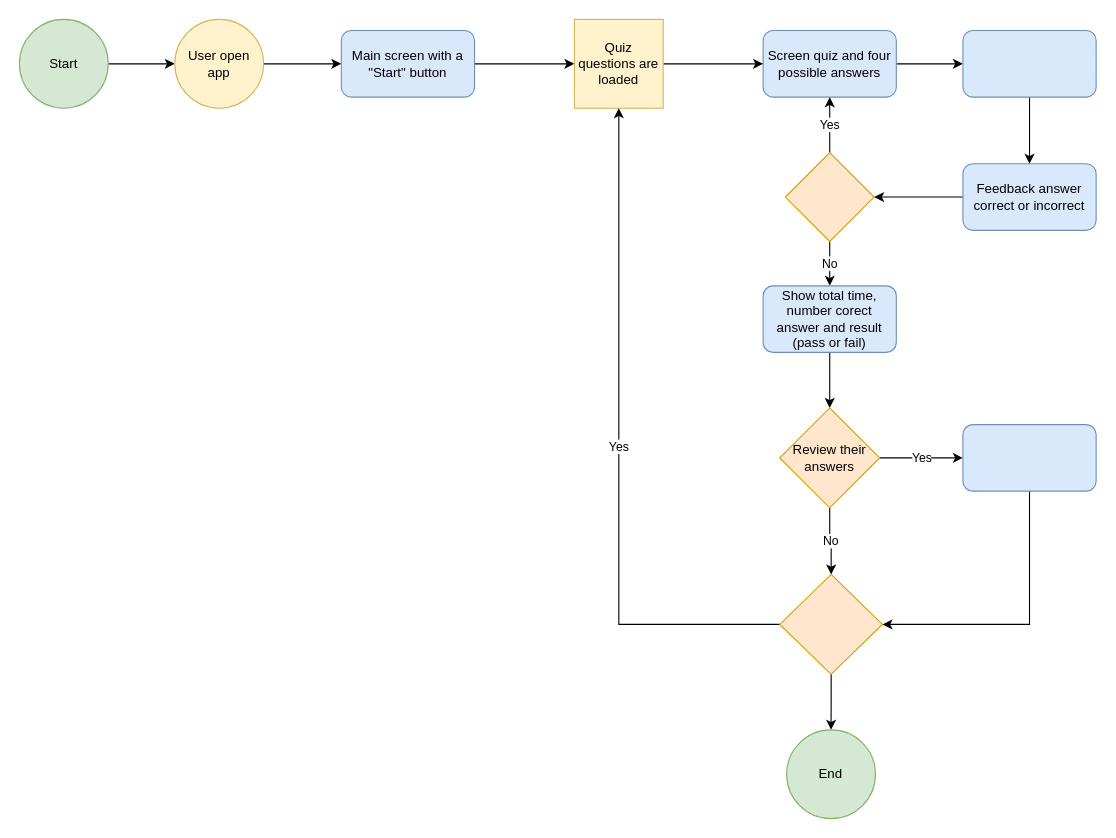
Some shapes in this 1116 by 838 pixel diagram are drawn without their labels. The shapes that lost their labels are listed below. From the top down, each one's centre as x and y in pixels, then its label:
At (1029,63): "Popup confirm answer form user".
At (829,196): "More question".
At (1029,457): "Show all question their answer".
At (830,623): "Replay quiz".
